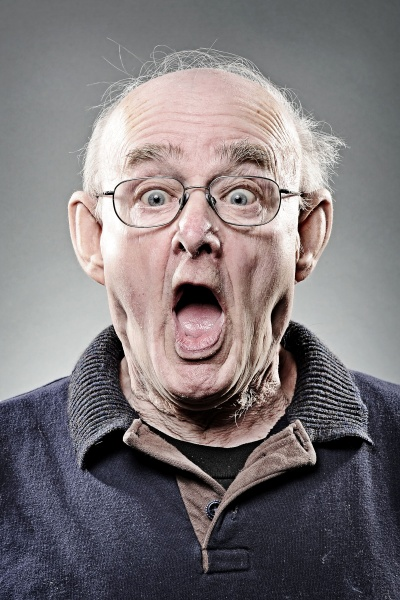Forehead: (99, 88, 286, 158)
